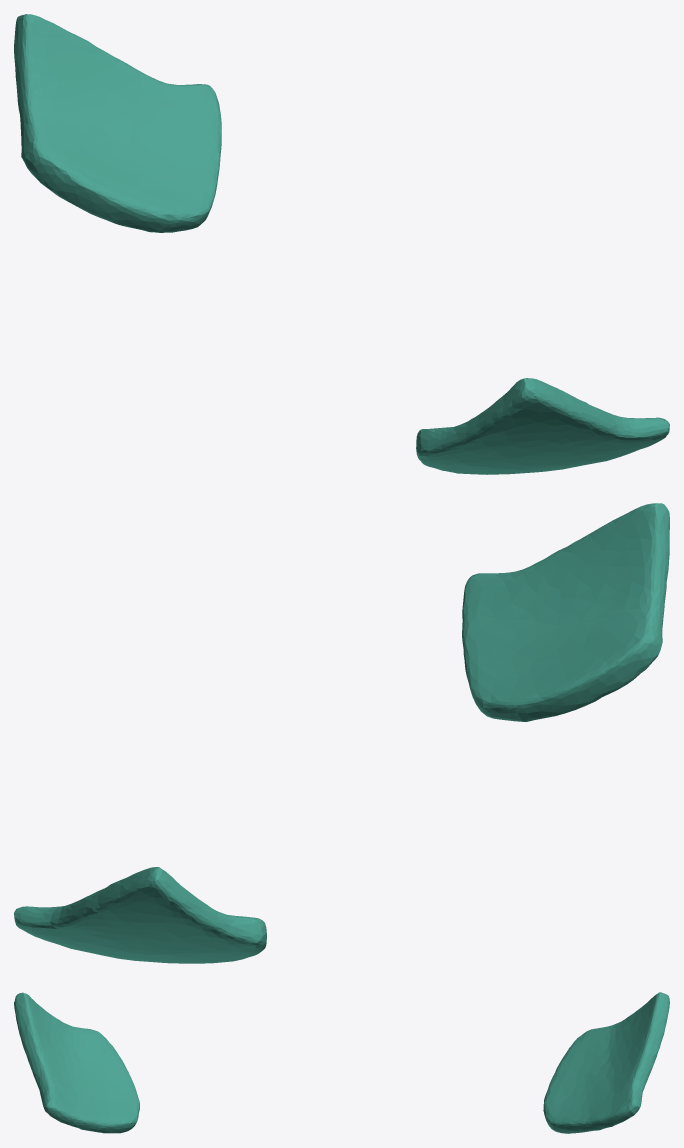
3 renders of one model, top to bottom at view 1: azimuth 30°, elevation 25°; view 2: azimuth 150°, elevation 25°; view 3: azimuth 270°, elevation 25°, orthographic. The views are drawn at different scales.
Visible parts, largest first — view 1: 201.obj; view 2: 201.obj; view 3: 201.obj.
Part boxes in pixels (x1,y1,x2,y2): 201.obj: [14, 14, 669, 474]; 201.obj: [14, 503, 669, 963]; 201.obj: [14, 992, 669, 1133].
Bounding box in the file's own units: 2131 × 1608 × 8603.
